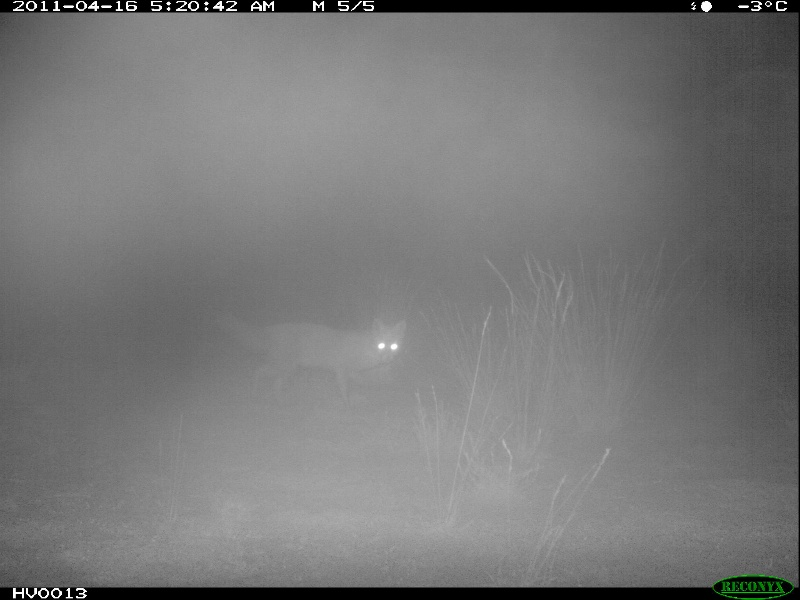fox: (206, 308, 414, 398)
